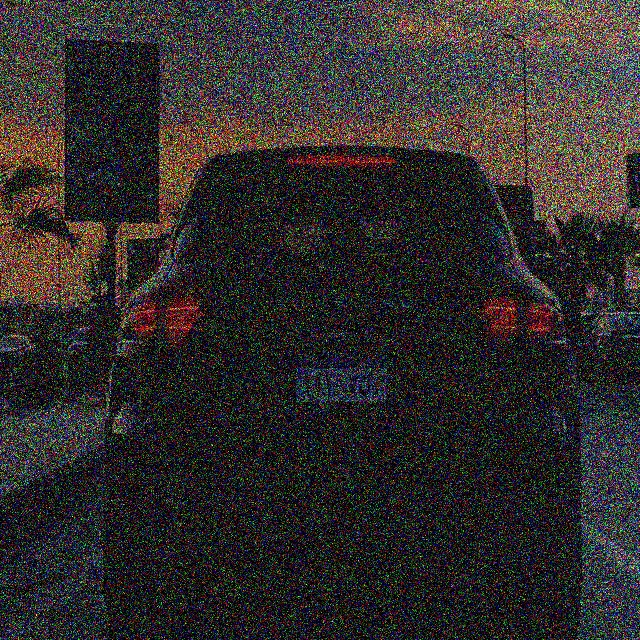License Plate: (292, 343, 392, 407)
